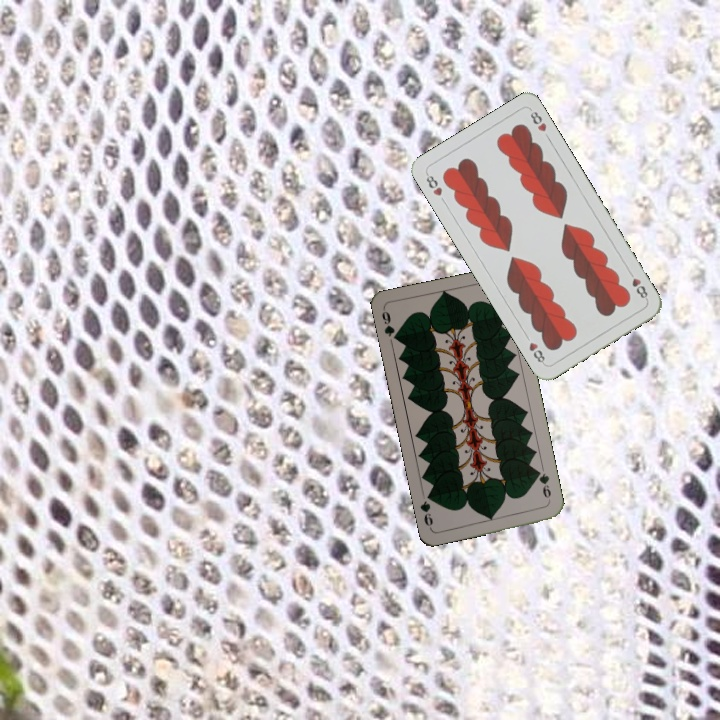G9: (378, 305, 402, 344), (532, 466, 553, 505)
H8: (624, 266, 650, 303), (422, 169, 445, 199)
